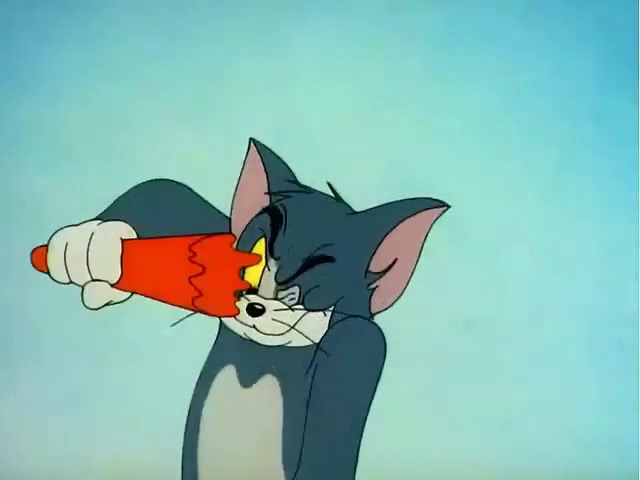tom: (9, 74, 455, 476)
